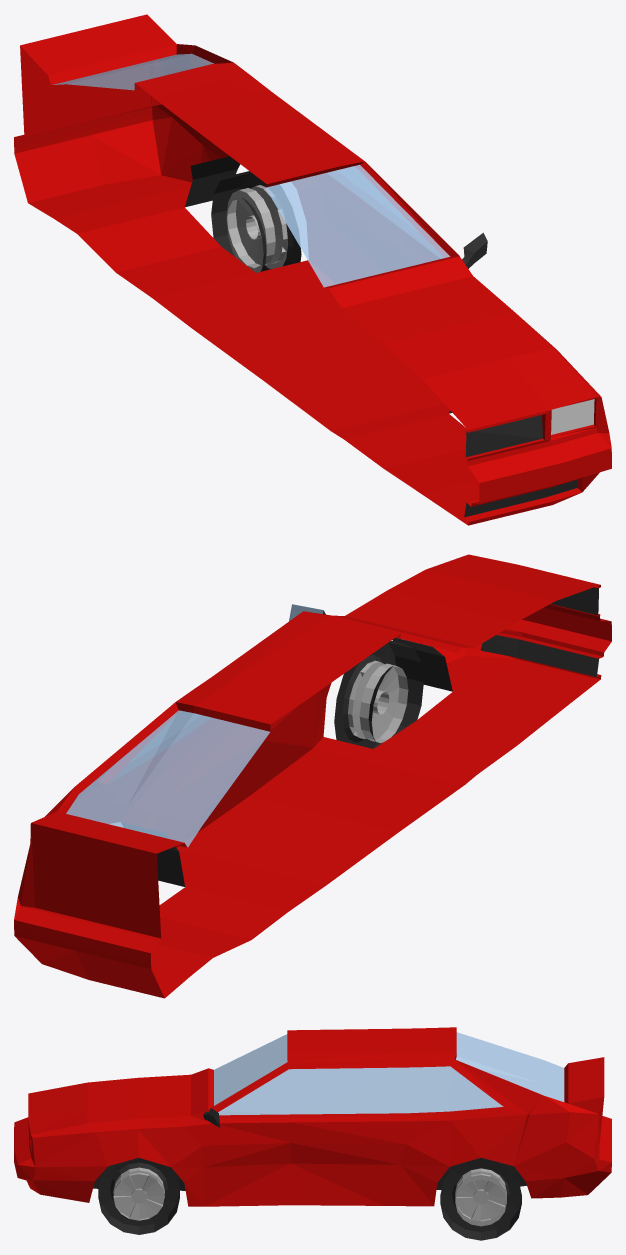
Rendered from Not a quattro.dae.
3 renders of one model, top to bottom at view 1: azimuth 30°, elevation 25°; view 2: azimuth 150°, elevation 25°; view 3: azimuth 270°, elevation 25°, orthographic. The views are drawn at different scales.
Visible parts, largest first — view 1: Cube; view 2: Cube; view 3: Cube.
Boxes of the visible parts, box(x1,y1,x2,y2) form: Cube: box(14, 14, 611, 525); Cube: box(14, 554, 611, 998); Cube: box(14, 1027, 611, 1240).
Size of what is drawn, in the model's own units: 1.01 by 4.89 by 1.49.
